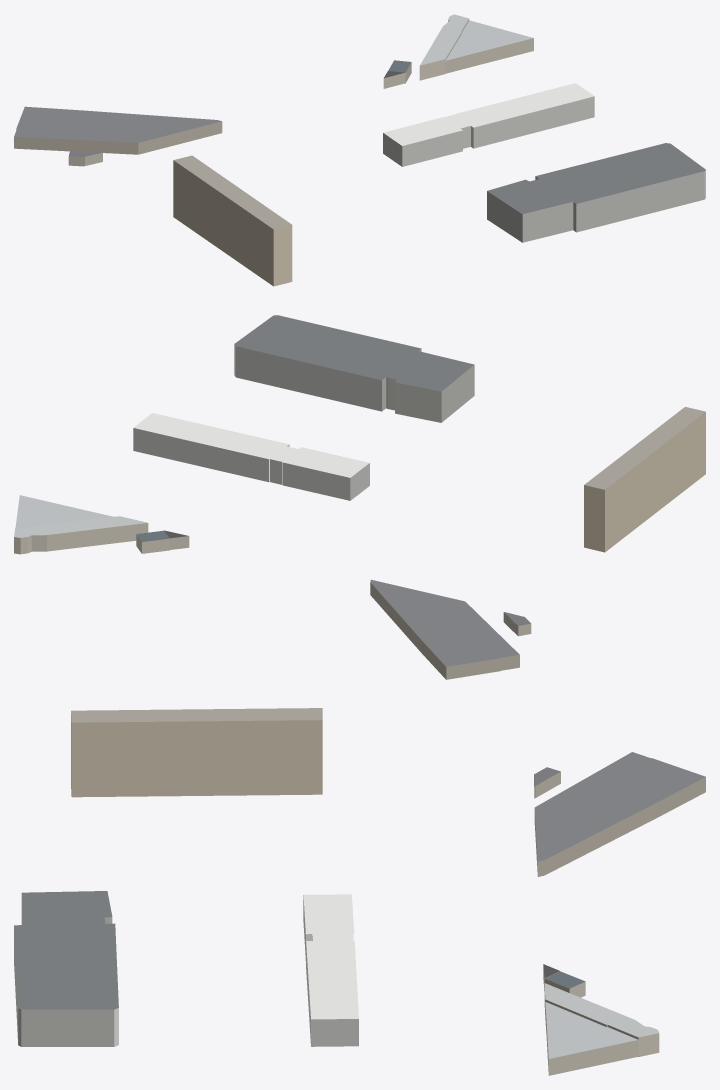
The picture shows the model from 3 angles, top to bottom: view 1: azimuth 30°, elevation 25°; view 2: azimuth 150°, elevation 25°; view 3: azimuth 270°, elevation 25°; orthographic projection. The views are drawn at different scales.
Visible parts, largest first — view 1: tuile; view 2: tuile; view 3: tuile.
Part boxes in pixels (x1=…): tuile: x1=14, y1=14, x2=705, y2=286; tuile: x1=14, y1=315, x2=705, y2=679; tuile: x1=14, y1=708, x2=705, y2=1075.
Bounding box in the file's own units: 283 × 36.19 × 266.
